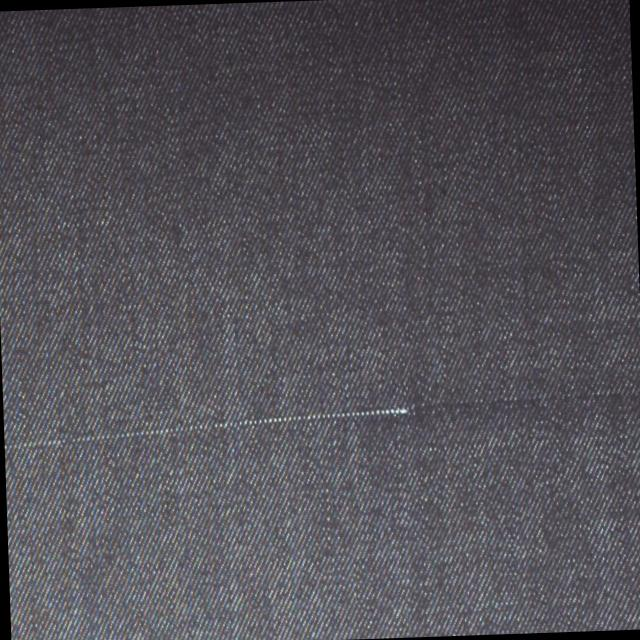Warp_Weft: (3, 398, 417, 455)
